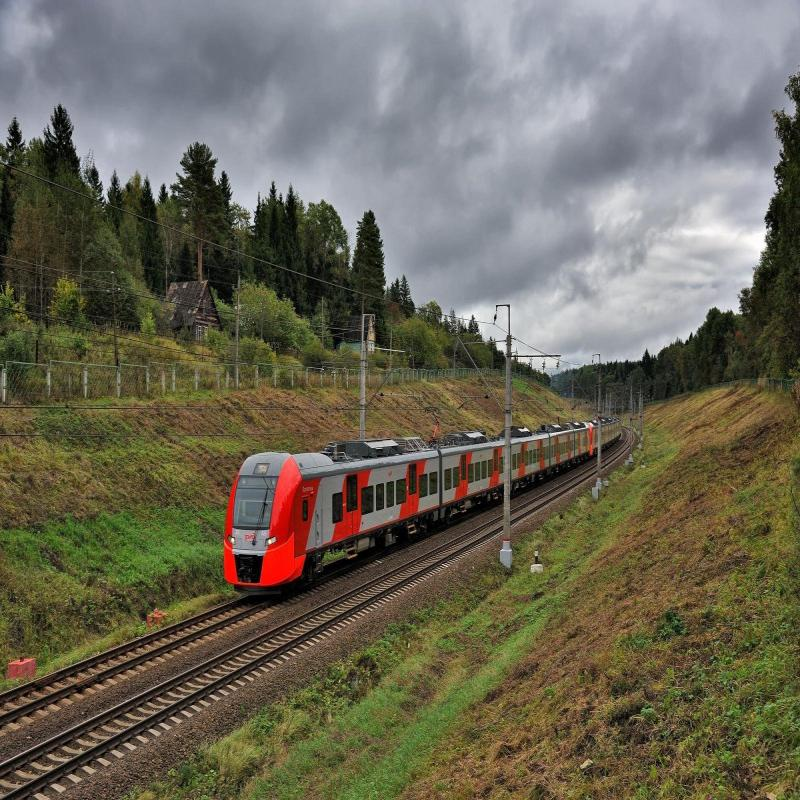train: (212, 424, 445, 609), (434, 423, 513, 532), (506, 424, 556, 502), (550, 412, 595, 488)
